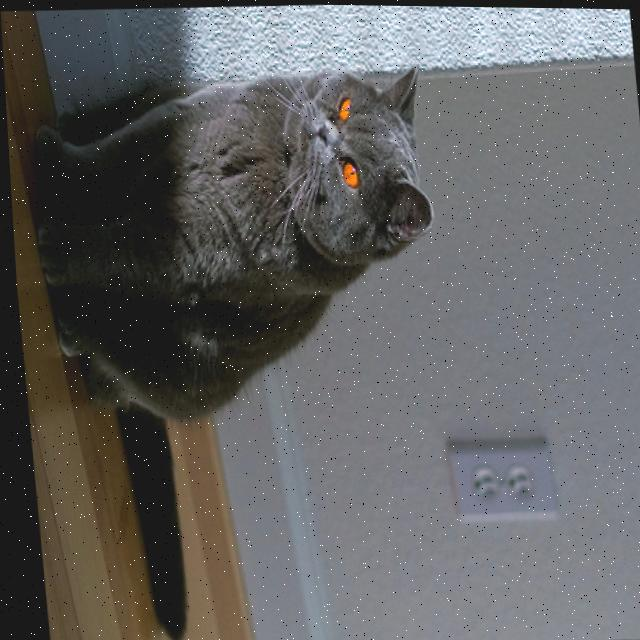British Shorthair: (11, 52, 471, 640)
